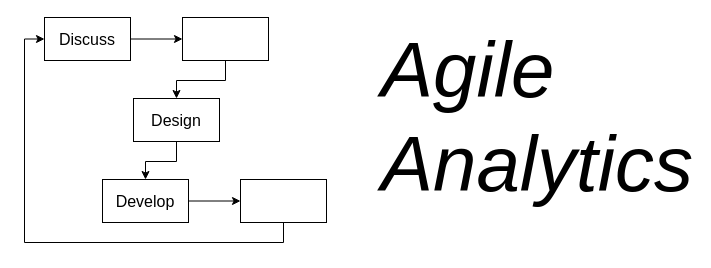
This 711x268 diagram has some shape labels left out. The shapes that lost their labels are listed below. From the top down, each one's centre as x and y in pixels, then its label:
At (x=225, y=38): "Define".
At (x=283, y=200): "Deliver".
